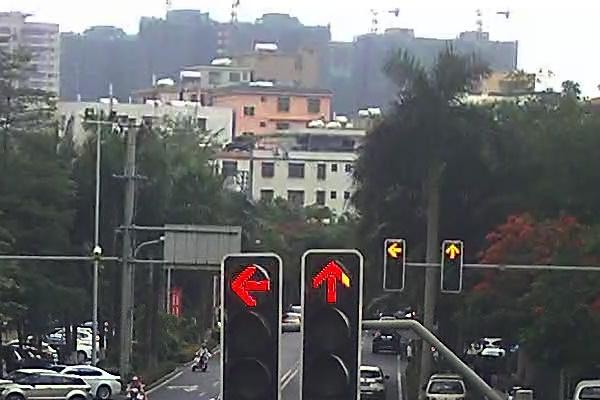redleft: (227, 262, 273, 309), (386, 241, 403, 260)
redstraight: (309, 255, 355, 306), (443, 242, 463, 261)
